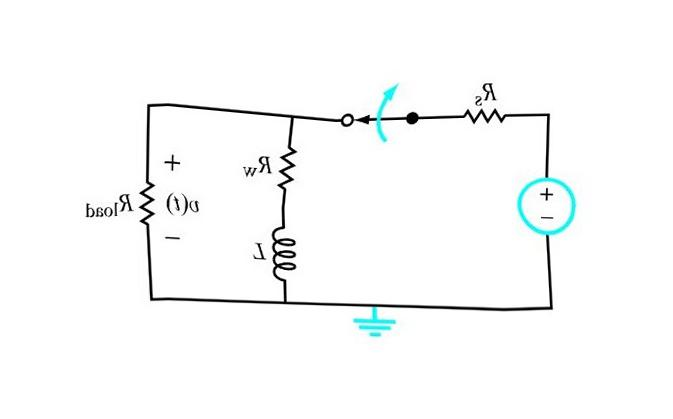Battery: (486, 165, 604, 254)
